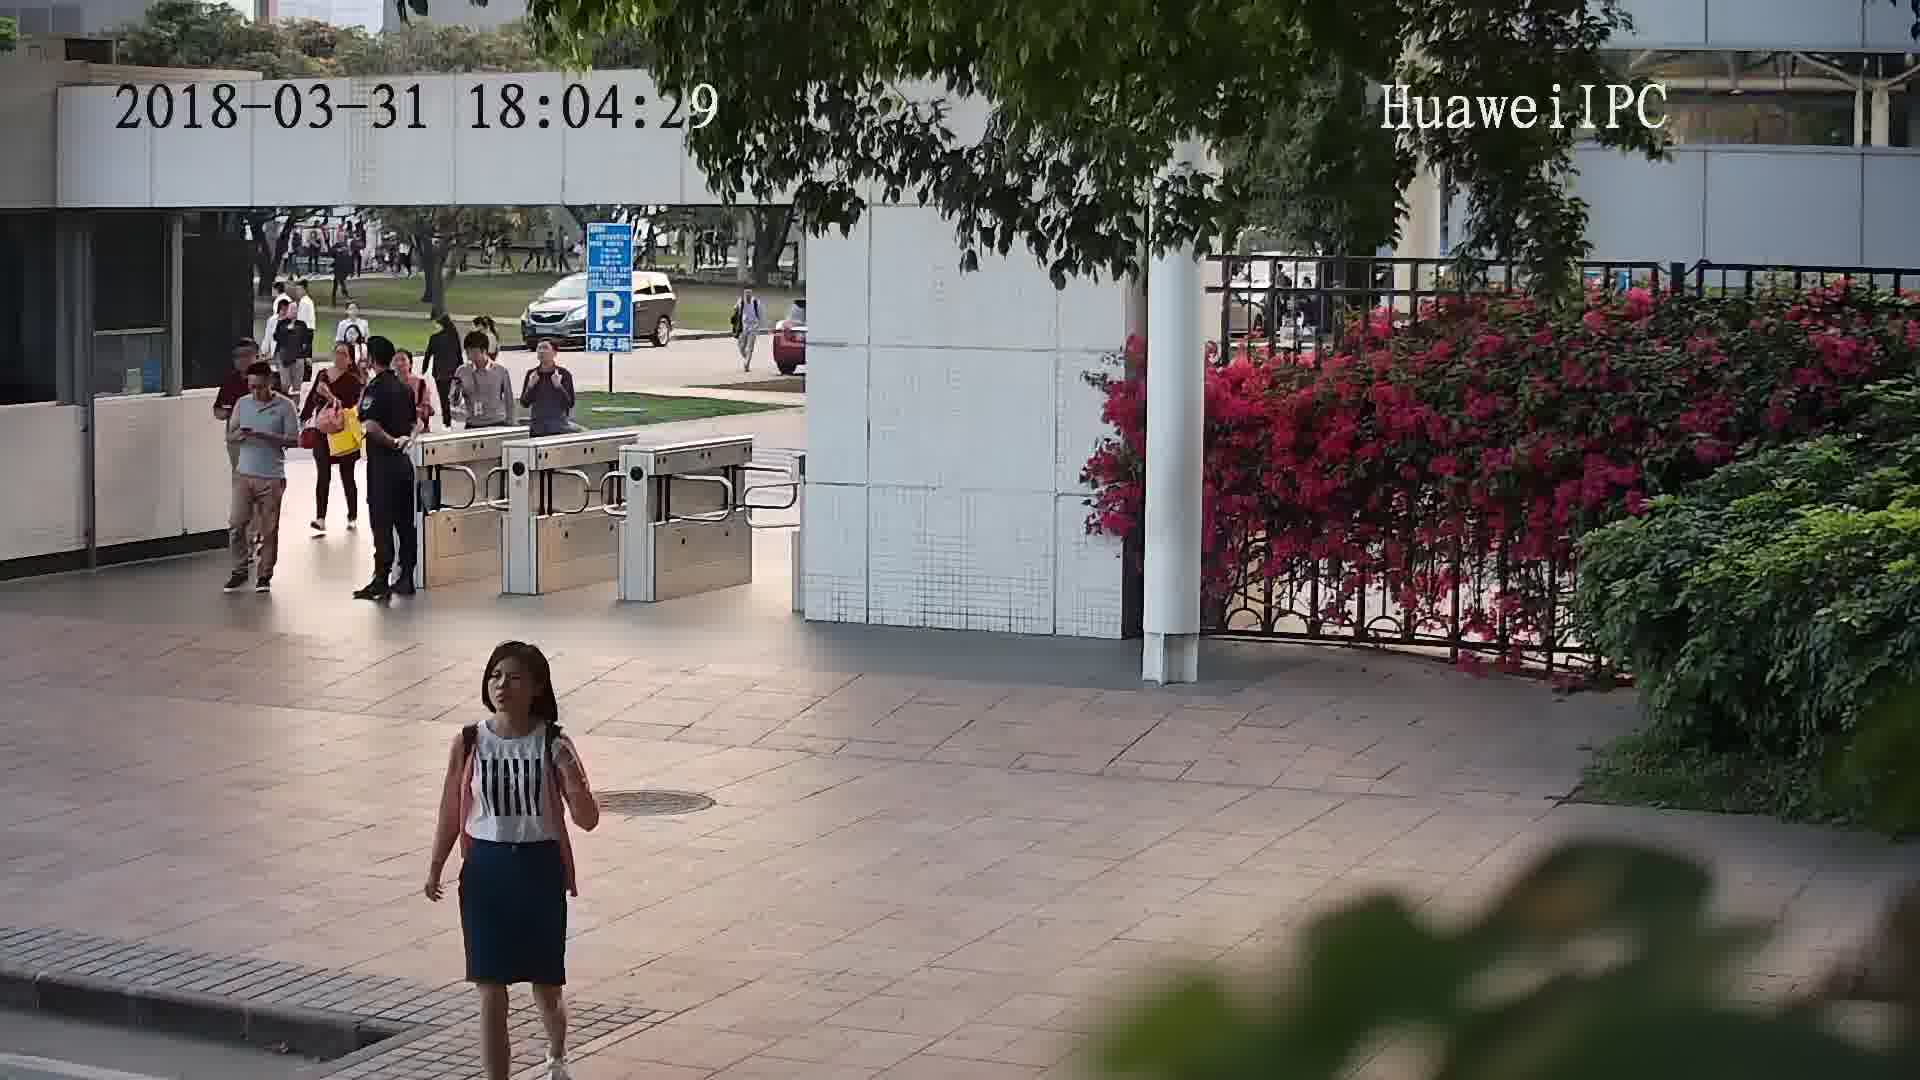face: (482, 654, 540, 712)
person: (452, 640, 576, 756), (233, 362, 294, 417), (457, 330, 511, 385), (362, 335, 407, 398), (317, 336, 363, 393), (220, 336, 266, 389), (522, 338, 571, 382), (264, 294, 306, 335), (394, 350, 433, 392), (428, 310, 461, 344), (287, 274, 317, 310), (337, 301, 372, 328), (267, 281, 293, 309), (739, 282, 760, 305)
